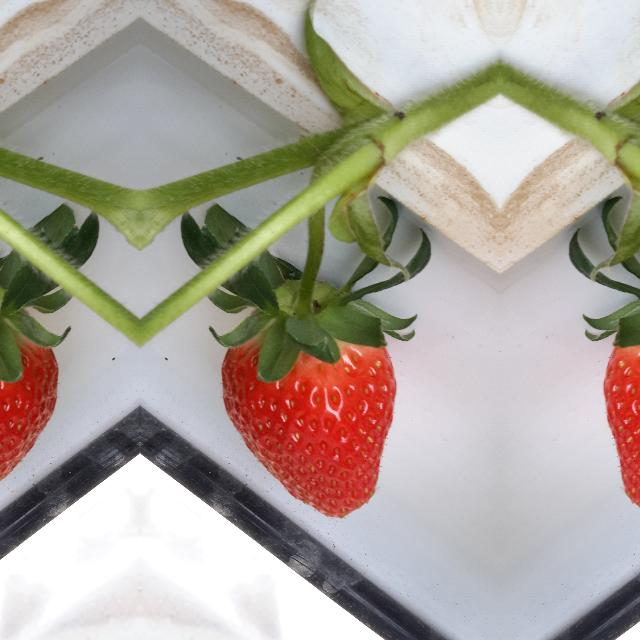Health_100: (221, 307, 397, 518), (0, 307, 59, 518), (603, 307, 640, 518)
